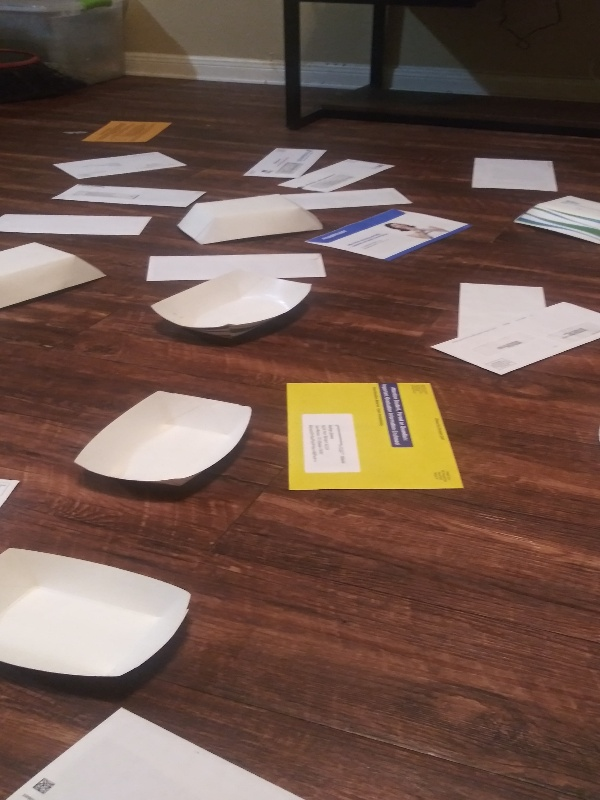plate: (1, 541, 189, 697), (74, 387, 259, 495), (146, 261, 319, 349), (171, 192, 325, 250), (1, 237, 111, 313), (508, 195, 599, 252)
